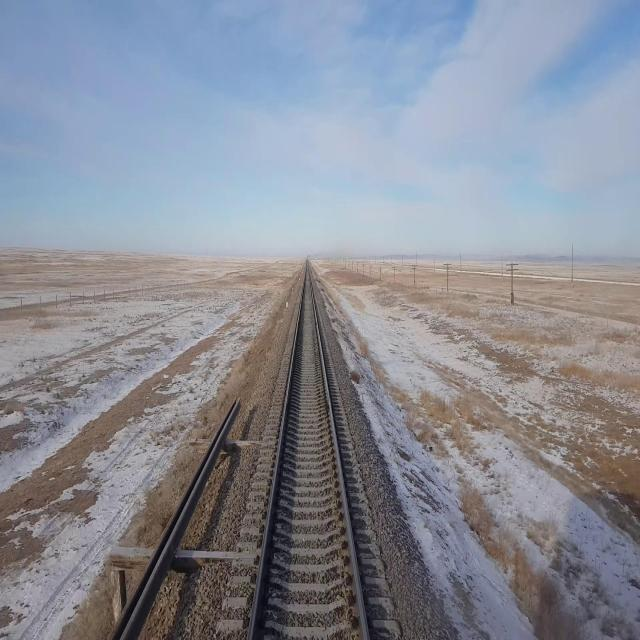rail-track: (252, 264, 365, 639)
